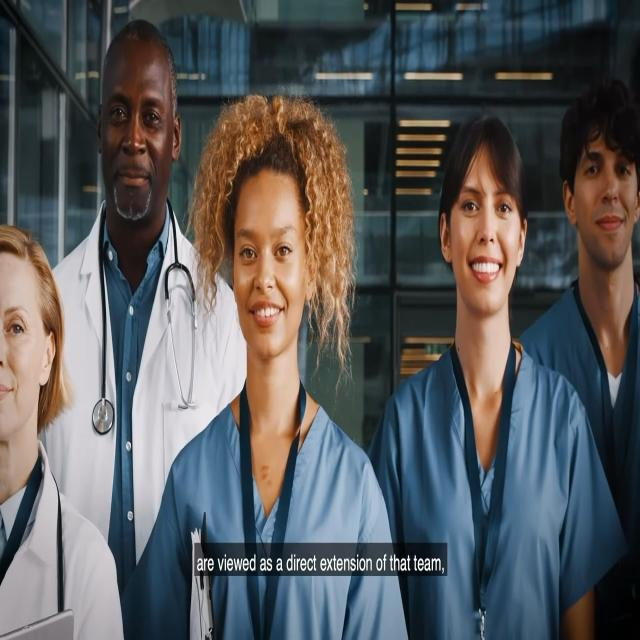Doctor: (88, 32, 208, 448), (0, 200, 93, 640)
Nurse: (197, 100, 369, 640), (416, 100, 542, 640), (552, 82, 640, 370)
